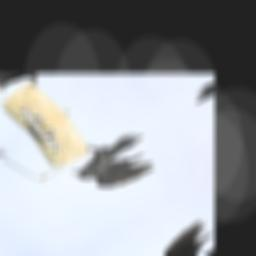Crow: (62, 118, 168, 204)
